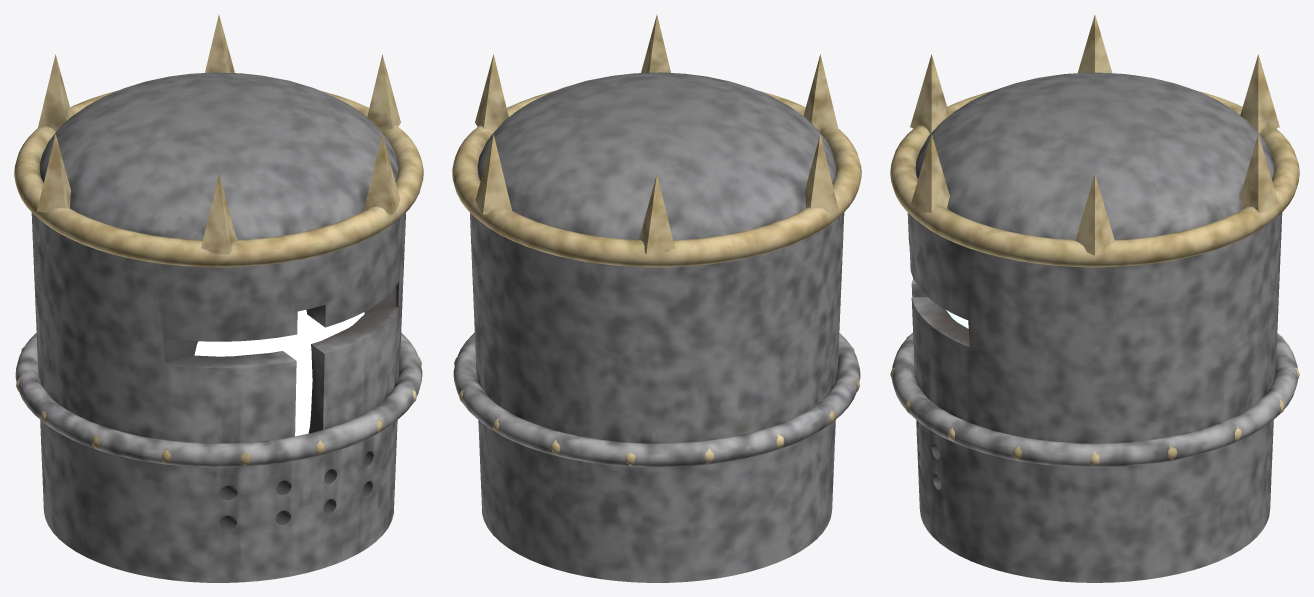
Rendered from grave_helm.glb.
The picture shows the model from 3 angles, left to right: view 1: azimuth 30°, elevation 25°; view 2: azimuth 150°, elevation 25°; view 3: azimuth 270°, elevation 25°; orthographic projection.
Visible parts, largest first — view 1: metal_iron, metal_brass, glow_cold; view 2: metal_iron, metal_brass; view 3: metal_iron, metal_brass.
Part boxes in pixels (x1,y1,x2,y2): metal_iron: [15, 72, 422, 582]; metal_brass: [14, 15, 423, 465]; glow_cold: [194, 310, 364, 436]; metal_iron: [453, 72, 860, 582]; metal_brass: [452, 15, 861, 465]; metal_iron: [892, 72, 1297, 582]; metal_brass: [890, 15, 1299, 465].
Bounding box in the file's own units: 0.312 × 0.34 × 0.304.
Materials: 3 (2 with a texture image).
